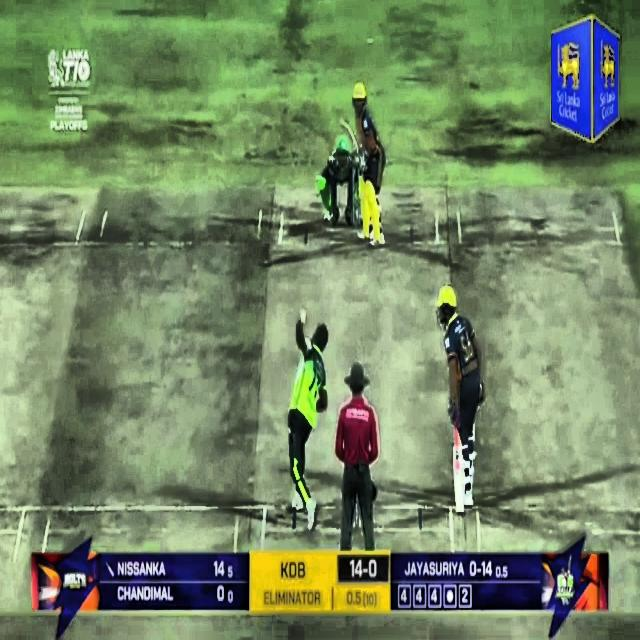Left-stump: (352, 165, 355, 226)
Middle-stump: (358, 205, 361, 226)
